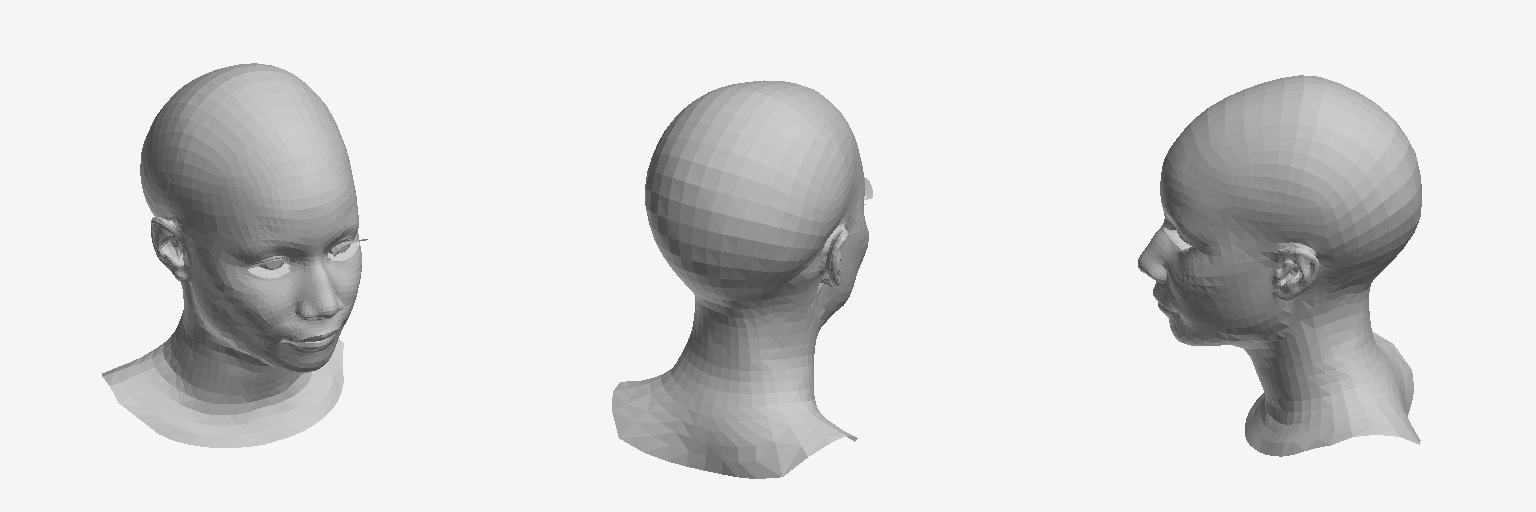
The model's file is Girl+Head.obj.
The picture shows the model from 3 angles: view 1: azimuth 30°, elevation 25°; view 2: azimuth 150°, elevation 25°; view 3: azimuth 270°, elevation 25°; orthographic projection.
Parts seen in each view (by area): view 1: Body, Eyelashes; view 2: Body; view 3: Body.
Boxes of the visible parts, box(x1,y1,x2,y2) form: Body: box(102, 63, 361, 447); Eyelashes: box(248, 239, 367, 278); Body: box(612, 80, 868, 478); Body: box(1138, 75, 1421, 456).
Size of the model in its own units: 21.74 by 31.77 by 23.62.